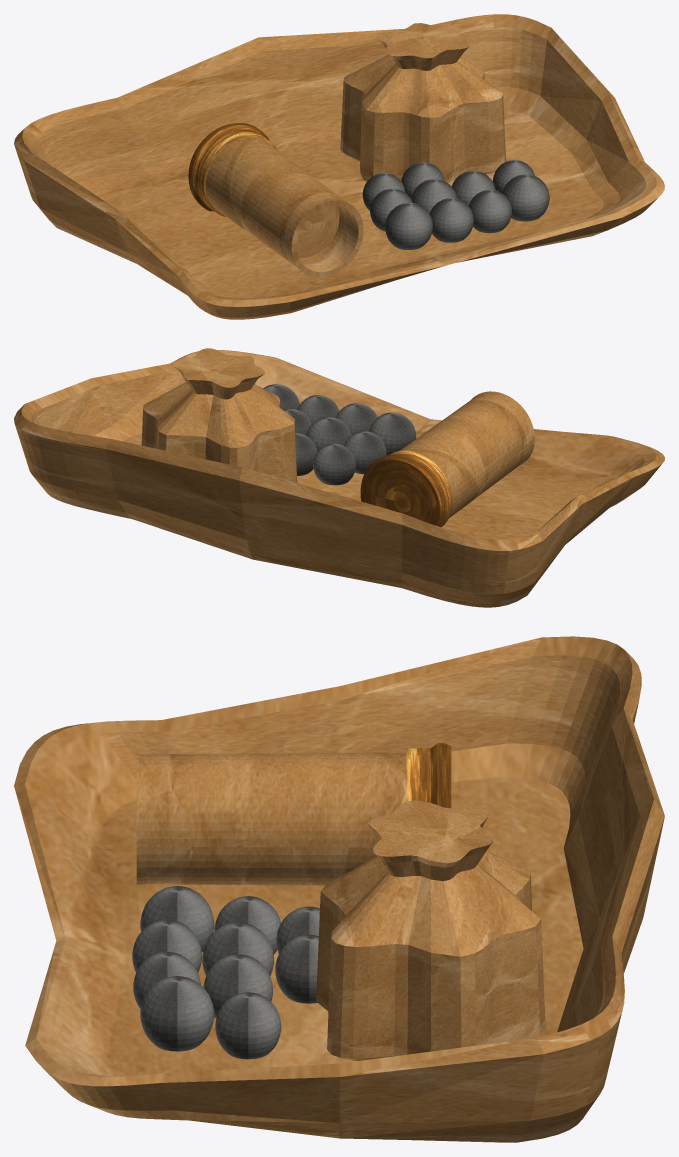
File: shotgun_kit.obj
The picture shows the model from 3 angles, top to bottom: view 1: azimuth 30°, elevation 25°; view 2: azimuth 150°, elevation 25°; view 3: azimuth 270°, elevation 25°; orthographic projection. The views are drawn at different scales.
Parts seen in each view (by area): view 1: wrapper, sealed_packet, paper_case, case_base, shot_0, shot_3, shot_1, shot_2, shot_4, shot_5, shot_6, shot_9 (+2 smaller); view 2: wrapper, sealed_packet, paper_case, case_base, shot_8, shot_0, shot_4, shot_5, shot_1, shot_2, shot_9, shot_3 (+1 smaller); view 3: wrapper, sealed_packet, paper_case, shot_3, shot_7, case_base, shot_0, shot_6, shot_9, shot_5, shot_1, shot_4 (+2 smaller).
Boxes of the visible parts, bbox=[...] form: wrapper: bbox=[14, 14, 664, 319]; sealed_packet: bbox=[340, 23, 505, 182]; paper_case: bbox=[206, 137, 363, 277]; case_base: bbox=[188, 123, 276, 216]; shot_0: bbox=[385, 202, 432, 249]; shot_3: bbox=[502, 174, 549, 221]; shot_1: bbox=[430, 198, 473, 242]; shot_2: bbox=[469, 189, 511, 233]; shot_4: bbox=[370, 188, 412, 231]; shot_5: bbox=[411, 179, 457, 213]; shot_6: bbox=[452, 170, 495, 205]; shot_9: bbox=[401, 162, 444, 198]; wrapper: bbox=[14, 350, 664, 607]; sealed_packet: bbox=[141, 348, 297, 482]; paper_case: bbox=[400, 391, 534, 518]; case_base: bbox=[360, 450, 452, 527]; shot_8: bbox=[313, 443, 355, 485]; shot_0: bbox=[369, 412, 416, 455]; shot_4: bbox=[344, 431, 386, 474]; shot_5: bbox=[306, 417, 351, 451]; shot_1: bbox=[336, 403, 377, 434]; shot_2: bbox=[297, 395, 339, 424]; shot_9: bbox=[295, 433, 317, 475]; shot_3: bbox=[263, 384, 299, 409]; wrapper: bbox=[14, 636, 664, 1142]; sealed_packet: bbox=[316, 800, 545, 1061]; paper_case: bbox=[136, 752, 406, 885]; shot_3: bbox=[140, 976, 214, 1051]; shot_7: bbox=[215, 992, 281, 1059]; case_base: bbox=[406, 743, 451, 808]; shot_0: bbox=[140, 886, 214, 952]; shot_6: bbox=[203, 954, 272, 1018]; shot_9: bbox=[275, 934, 318, 1003]; shot_5: bbox=[202, 922, 273, 975]; shot_1: bbox=[132, 920, 201, 972]; shot_4: bbox=[214, 896, 280, 954].
Bounding box in the file's own units: 106 × 25.55 × 71.28.
3 materials, 3 textured.
